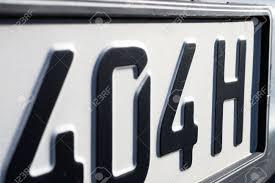0: (92, 44, 152, 183)
4: (2, 49, 85, 183), (156, 41, 205, 172)
H: (210, 36, 249, 157)
